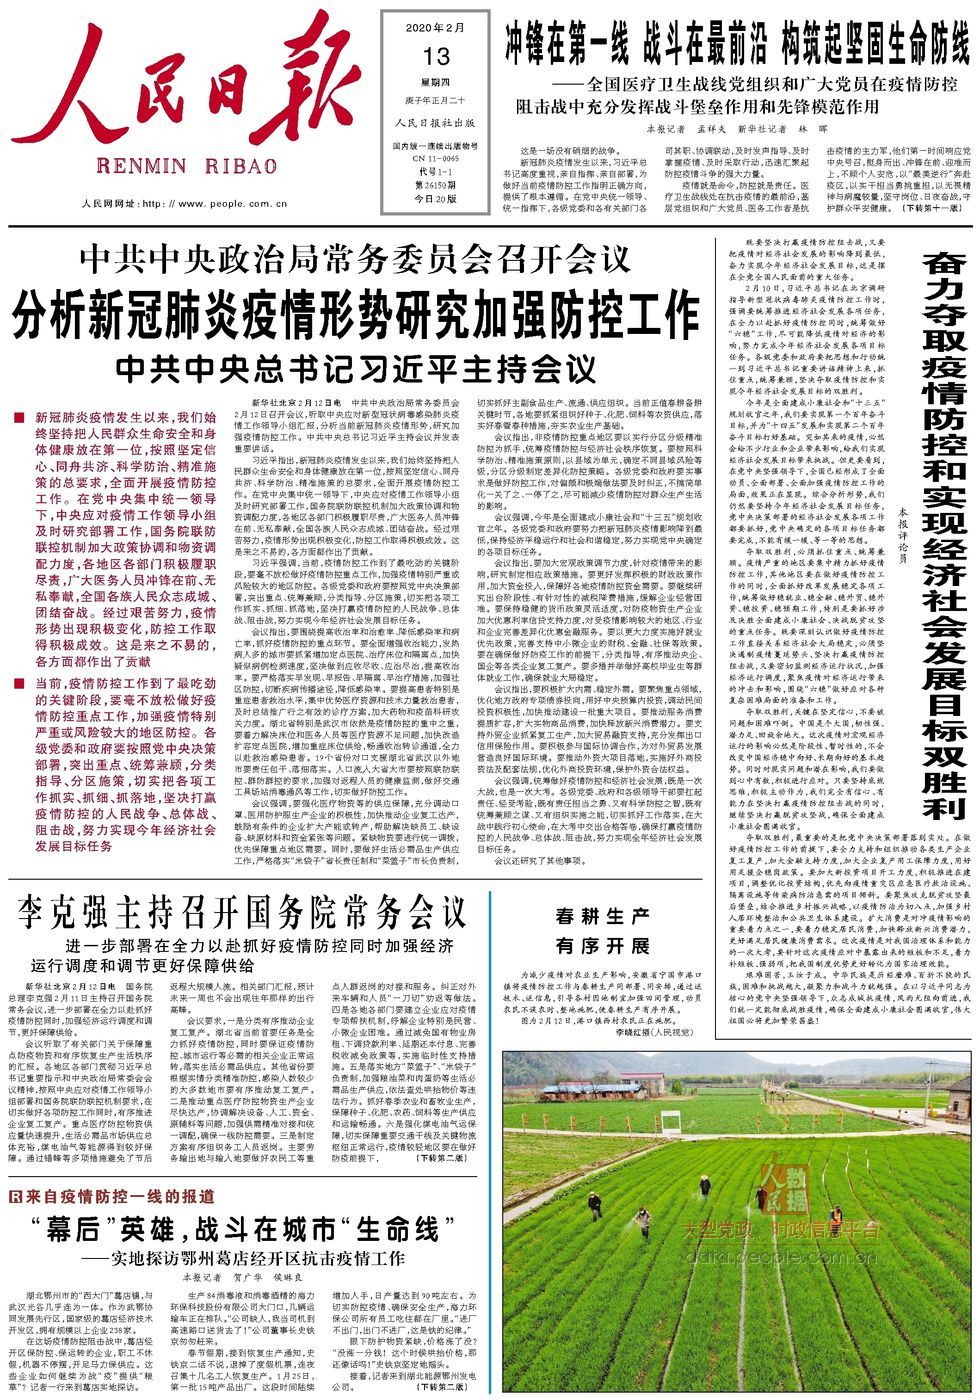pic: (499, 1047, 977, 1397)
